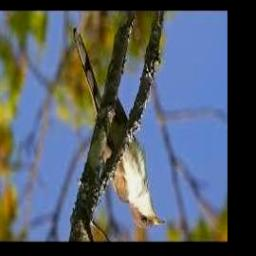Cuckoo: (74, 28, 166, 228)
